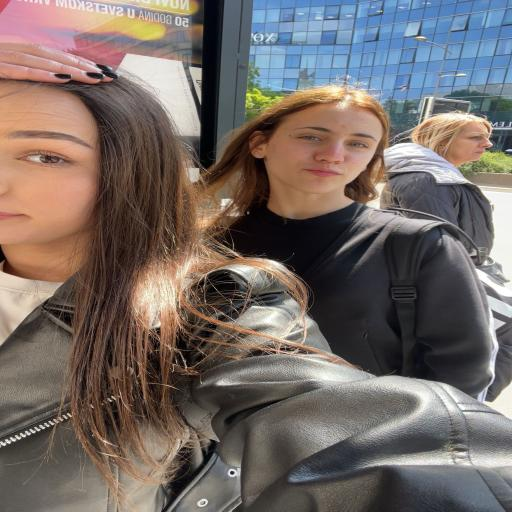marija: (0, 81, 109, 251)
masa: (270, 98, 386, 192)
